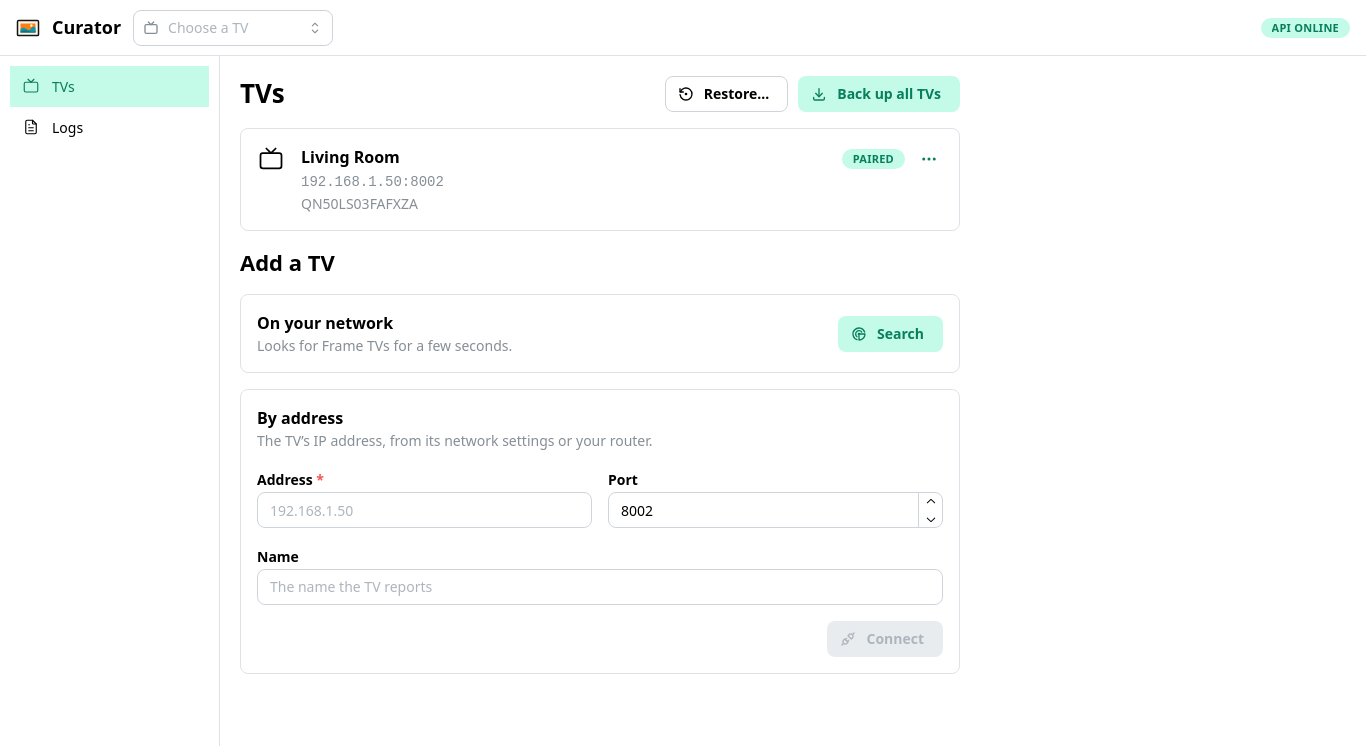
Scenario: TVs page › searches the network and connects a Frame it found, marking ones already added
Click the button "Search" at point(891, 334), box [838,316,943,352]
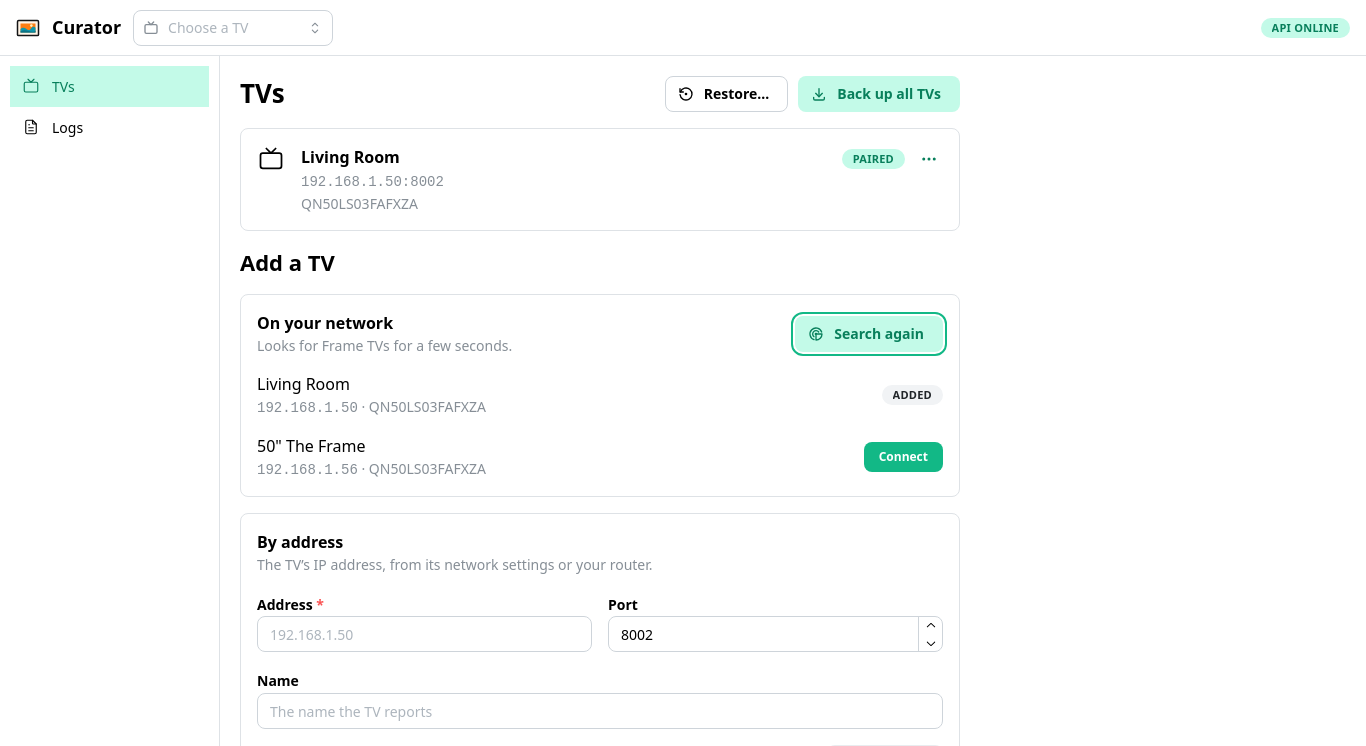
Now the text "50\" The Frame" is shown, box [257,435,366,457]
Now the text "Added" is shown, box [893,386,932,404]
Click the button named "Connect 50\" The Frame" at point(903, 457), box [864,442,943,472]
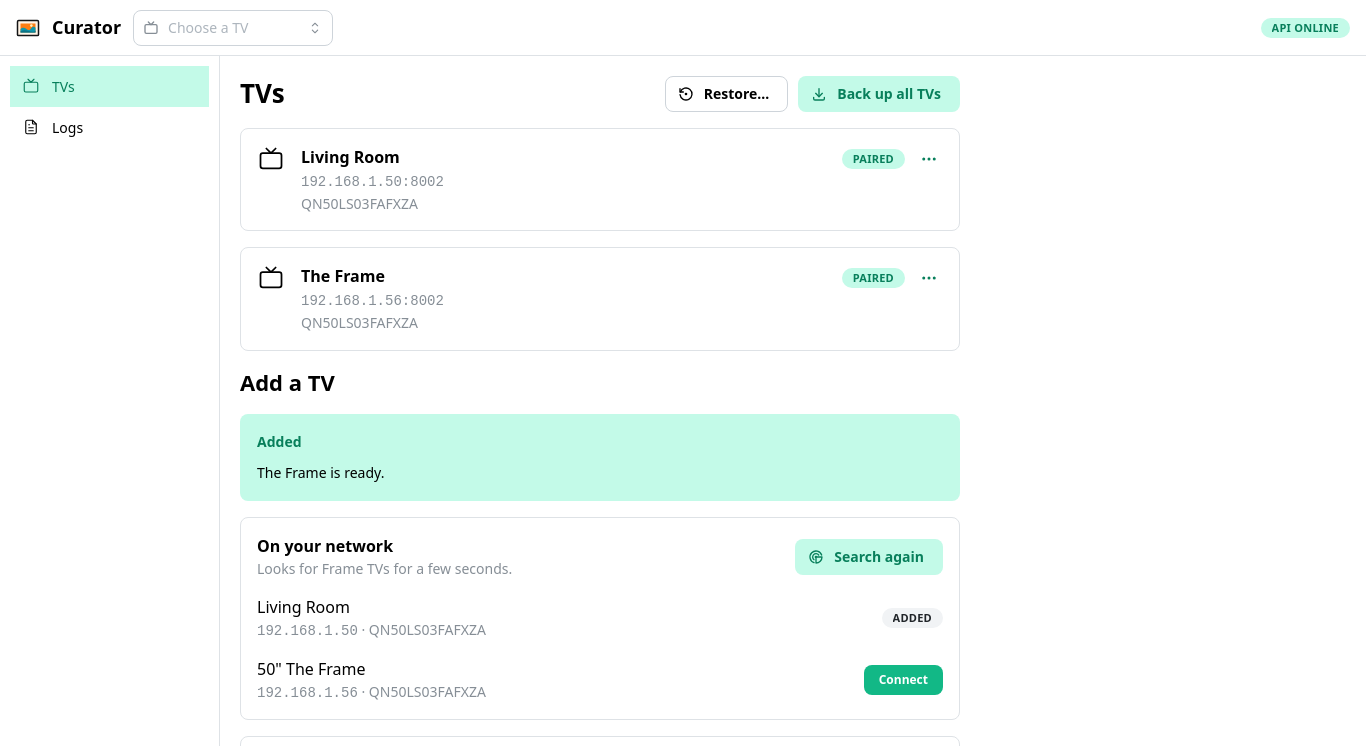
Now the text "The Frame is ready." is shown, box [257,463,384,482]
Now the text "192.168.1.56:8002" is shown, box [301,291,444,312]
